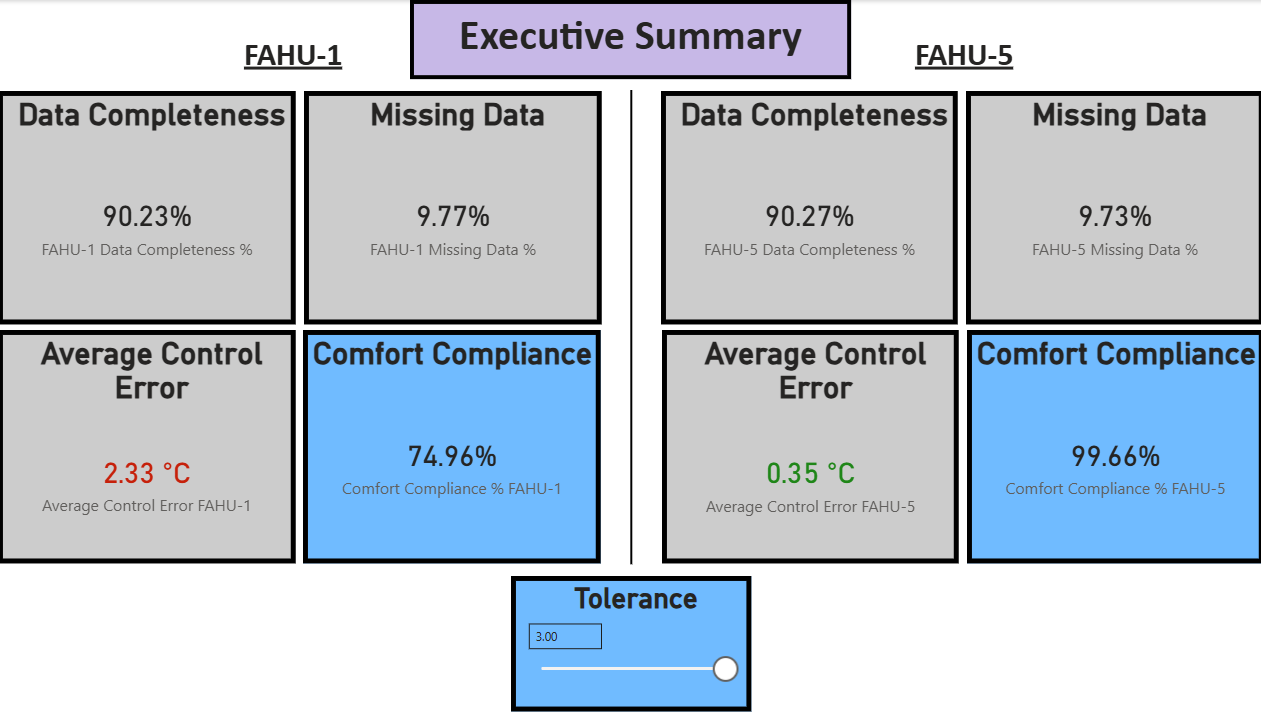

What the dashboard file says about the page in this screenshot:
{"tool":"powerbi","page":{"name":"Executive Summary","canvas":[1280,720],"ordinal":1},"visuals":[{"type":"card","title":"Data Completeness","fields":{"Values":["_Measures.Data Completeness %"]},"box":[670.7,92.4,300.1,235.7],"z":0},{"type":"slicer","title":"Tolerance","fields":{"Values":["Tolerance.Tolerance"]},"box":[519.1,582.8,243,136.8],"z":1000},{"type":"textbox","box":[243.2,30.7,114.8,58.4],"z":2000},{"type":"textbox","box":[416.6,0,445.9,79.9],"z":3000},{"type":"textbox","box":[922.1,30.7,114.8,58.4],"z":4000},{"type":"card","title":"Data Completeness","fields":{"Values":["_Measures.FAHU-1 Data Completeness %"]},"box":[0,92.4,301.1,235.7],"z":5000},{"type":"card","title":"Average Control Error","fields":{"Values":["_Measures.Average Control Error FAHU-1"]},"box":[0,333.6,300.8,235.9],"z":6000},{"type":"card","title":"Average Control Error","fields":{"Values":["_Measures.Average Control Error FAHU-5"]},"box":[671,333.6,300.3,236.3],"z":7000},{"type":"card","title":"Comfort Compliance","fields":{"Values":["_Measures.Comfort Compliance % FAHU-1"]},"box":[308.7,333.6,301.4,236.3],"z":8000},{"type":"shape","box":[609.8,90.8,61.3,479.5],"z":9000},{"type":"card","title":"Comfort Compliance","fields":{"Values":["_Measures.Comfort Compliance % FAHU-5"]},"box":[979.7,333.6,300.3,236.3],"z":10000},{"type":"card","title":"Missing Data","fields":{"Values":["_Measures.FAHU-1 Missing Data %"]},"box":[309.2,92.4,301.1,235.7],"z":11000},{"type":"card","title":"Missing Data","fields":{"Values":["_Measures.FAHU-5 Missing Data %"]},"box":[978.9,92.4,301.1,235.7],"z":12000}]}

Visuals, with their boxes in screenshot pixels (x1, y1, x2, y2), scaled from the page's 1280x720 canvas onto the 1261x712 screenshot:
"Data Completeness" card: x1=661, y1=91, x2=956, y2=324
"Tolerance" slicer: x1=511, y1=576, x2=751, y2=711
textbox: x1=240, y1=30, x2=353, y2=88
textbox: x1=410, y1=0, x2=850, y2=79
textbox: x1=908, y1=30, x2=1022, y2=88
"Data Completeness" card: x1=0, y1=91, x2=297, y2=324
"Average Control Error" card: x1=0, y1=330, x2=296, y2=563
"Average Control Error" card: x1=661, y1=330, x2=957, y2=564
"Comfort Compliance" card: x1=304, y1=330, x2=601, y2=564
shape: x1=601, y1=90, x2=661, y2=564
"Comfort Compliance" card: x1=965, y1=330, x2=1260, y2=564
"Missing Data" card: x1=305, y1=91, x2=601, y2=324
"Missing Data" card: x1=964, y1=91, x2=1260, y2=324
